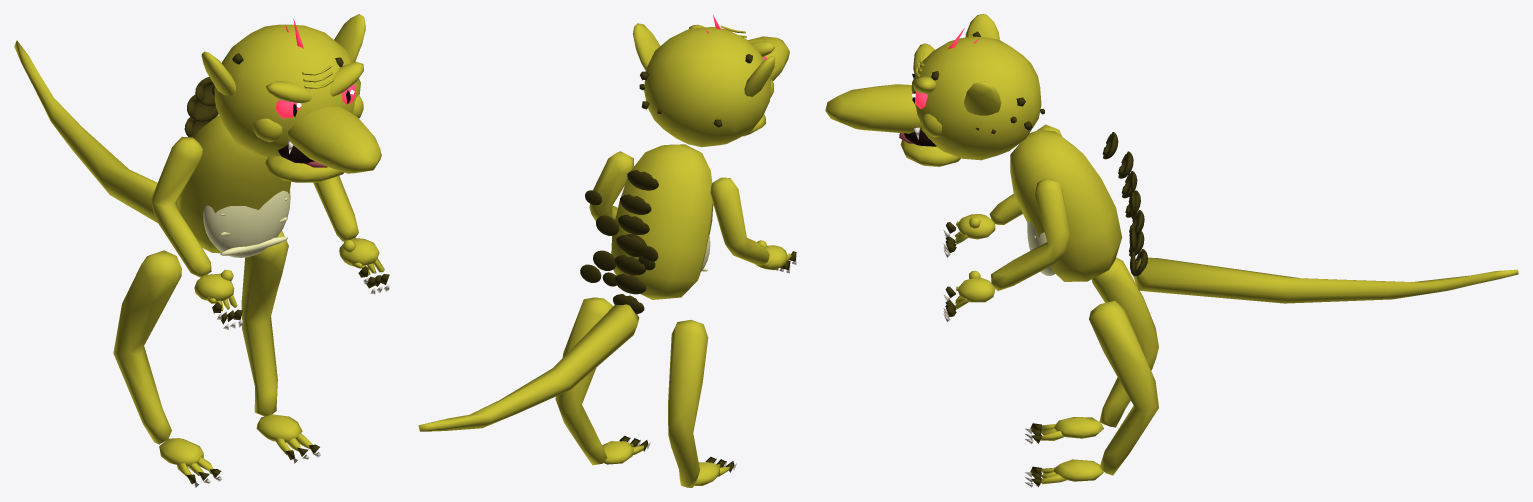
Rendered from loeber_2.glb.
3 views of the same model, side by side, from view 1: azimuth 30°, elevation 25°; view 2: azimuth 150°, elevation 25°; view 3: azimuth 270°, elevation 25° (orthographic). The views are drawn at different scales.
Parts seen in each view (by area): view 1: hoved_net, krop_net, benH_net, benV_net, armH_net, hale_net, armV_net; view 2: krop_net, hoved_net, hale_net, benH_net, benV_net, armH_net, armV_net; view 3: hoved_net, krop_net, hale_net, benV_net, benH_net, armV_net, armH_net.
Part boxes in pixels (bbox=[...]): hoved_net: bbox=[201, 14, 381, 182]; krop_net: bbox=[177, 77, 290, 257]; benH_net: bbox=[113, 250, 222, 487]; benV_net: bbox=[241, 231, 320, 463]; armH_net: bbox=[151, 136, 242, 329]; hale_net: bbox=[14, 40, 157, 222]; armV_net: bbox=[313, 176, 389, 294]; krop_net: bbox=[580, 144, 713, 314]; hoved_net: bbox=[633, 15, 789, 147]; hale_net: bbox=[418, 304, 638, 431]; benH_net: bbox=[668, 320, 736, 487]; benV_net: bbox=[555, 297, 650, 465]; armH_net: bbox=[710, 177, 796, 273]; armV_net: bbox=[589, 151, 633, 221]; hoved_net: bbox=[825, 14, 1044, 166]; krop_net: bbox=[1010, 129, 1147, 281]; hale_net: bbox=[1133, 257, 1518, 303]; benV_net: bbox=[1025, 300, 1158, 487]; benH_net: bbox=[1025, 257, 1158, 444]; armV_net: bbox=[943, 178, 1069, 321]; armH_net: bbox=[943, 124, 1061, 257].
Bounding box in the file's own units: 0.7618 × 1.96 × 2.84.
